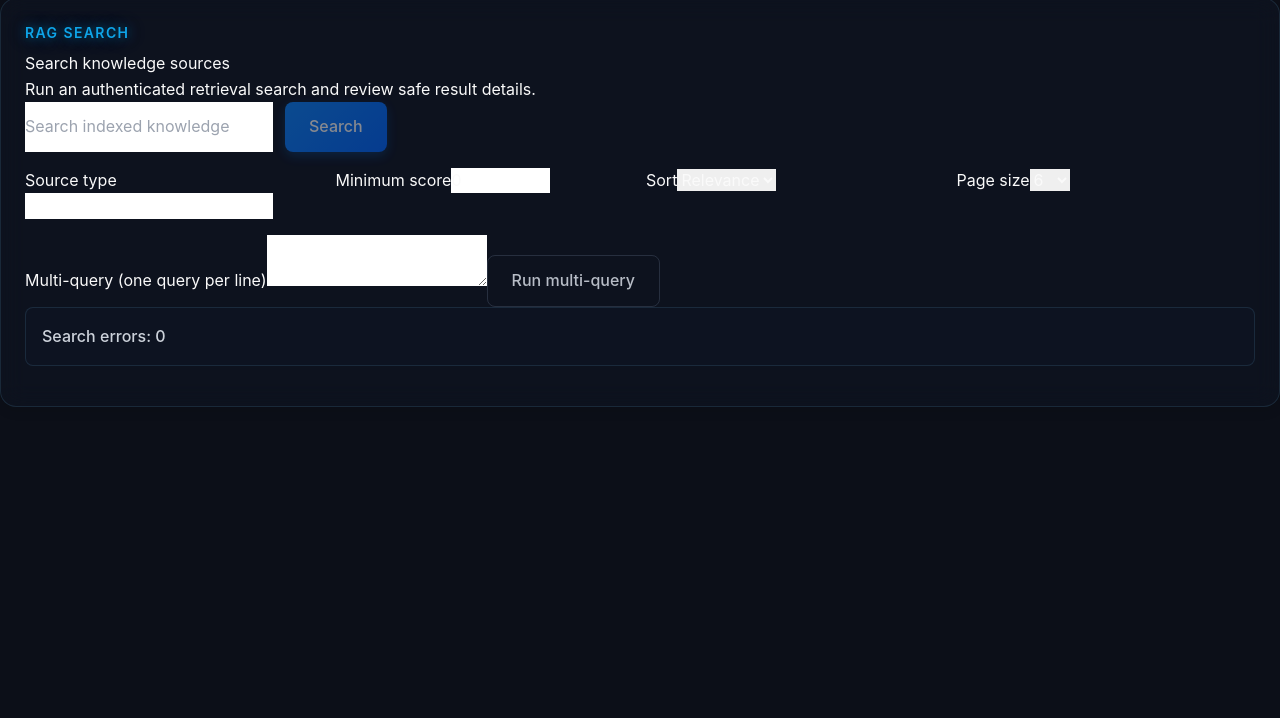
Test: admin RAG search › shows retry and safe details for structured search failures
Type "port congestion" into the field named "Search query" at (149, 127), box [25, 102, 273, 152]
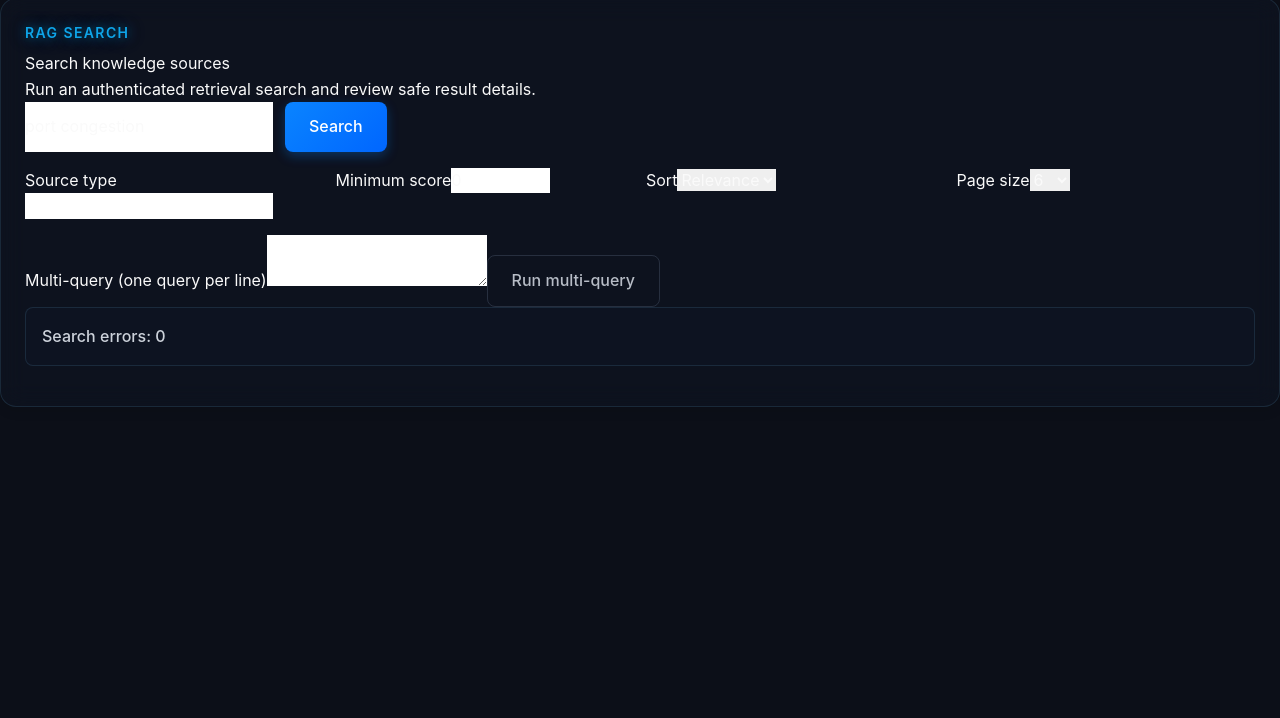
Click the button "Search" at (336, 127), box [285, 102, 387, 152]
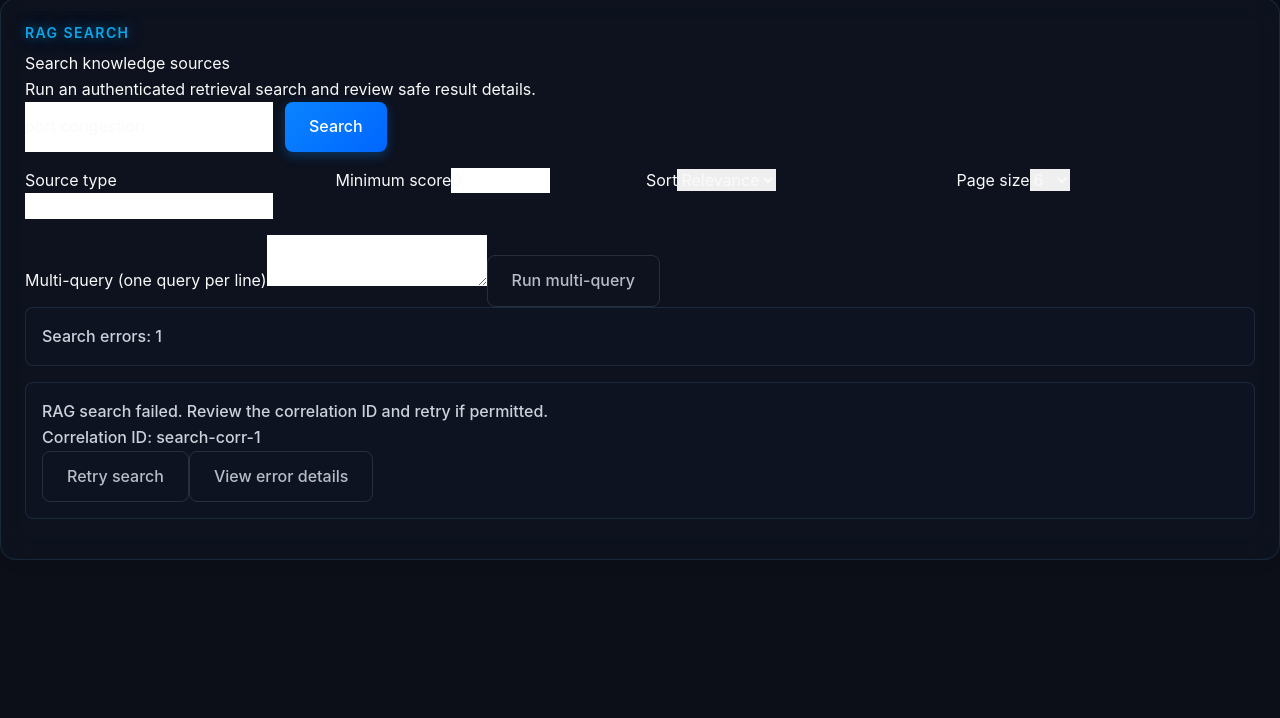
Check: the button "Retry search" is shown, box [42, 450, 189, 502]
Click the button "View error details" at (281, 476), box [189, 450, 373, 502]
(page scrolled)
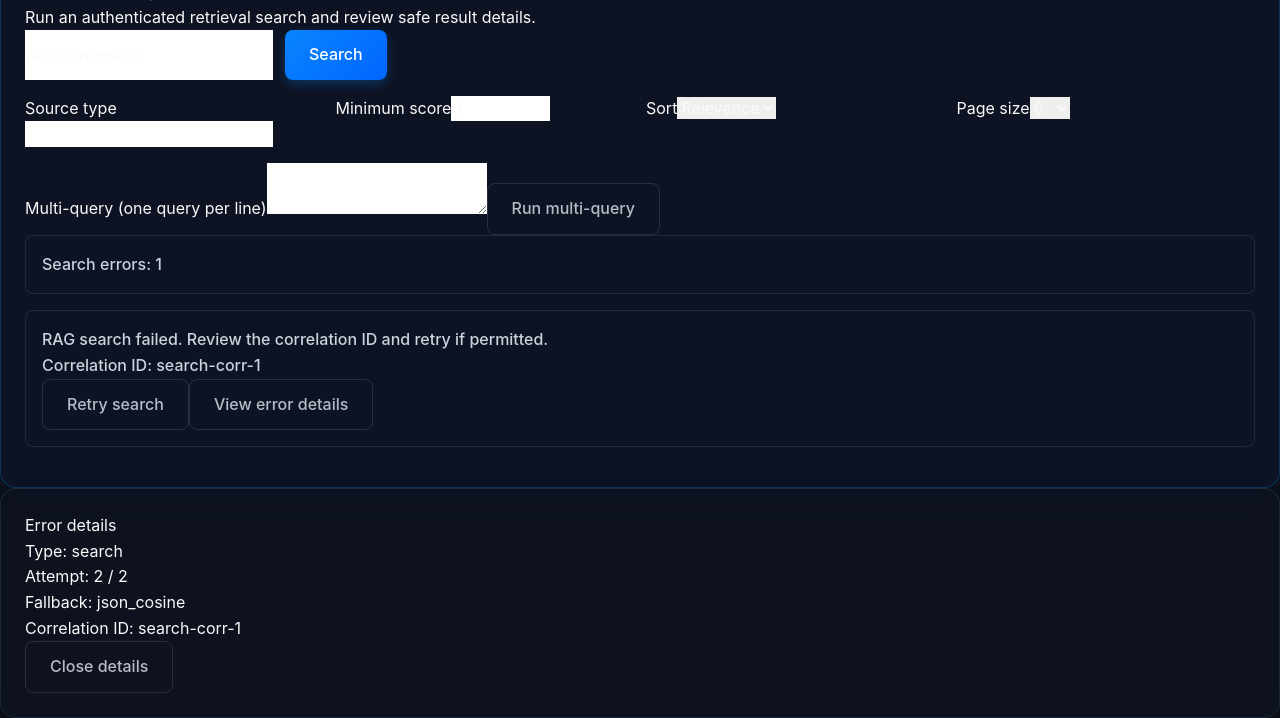
Check: the dialog shows "search-corr-1", box [138, 618, 241, 638]
Check: the dialog shows "json_cosine", box [97, 592, 185, 612]
